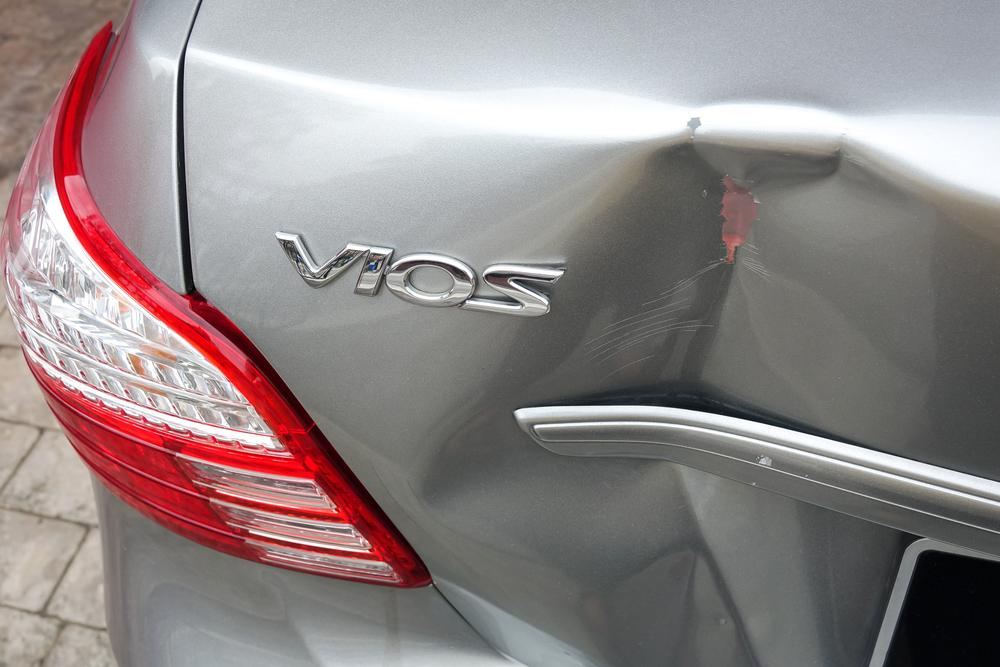dent: (436, 118, 926, 667)
